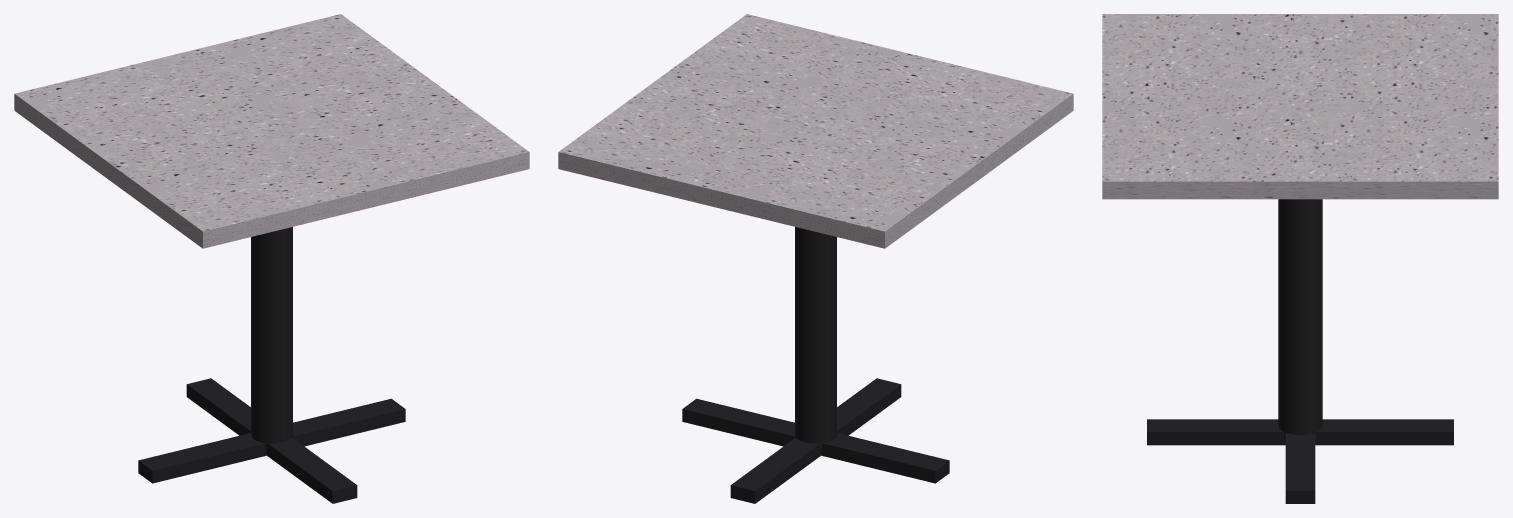
File: terrazzo_table.glb
3 views of the same model, side by side, from view 1: azimuth 30°, elevation 25°; view 2: azimuth 150°, elevation 25°; view 3: azimuth 270°, elevation 25° (orthographic). The views are drawn at different scales.
Parts seen in each view (by area): view 1: terrazzo_table; view 2: terrazzo_table; view 3: terrazzo_table.
Part boxes in pixels (x1,y1,x2,y2): terrazzo_table: [14, 14, 529, 503]; terrazzo_table: [558, 14, 1073, 503]; terrazzo_table: [1102, 14, 1498, 503].
Size of the model in its own units: 0.8 by 0.76 by 0.8.
Materials: 2 (1 with a texture image).
